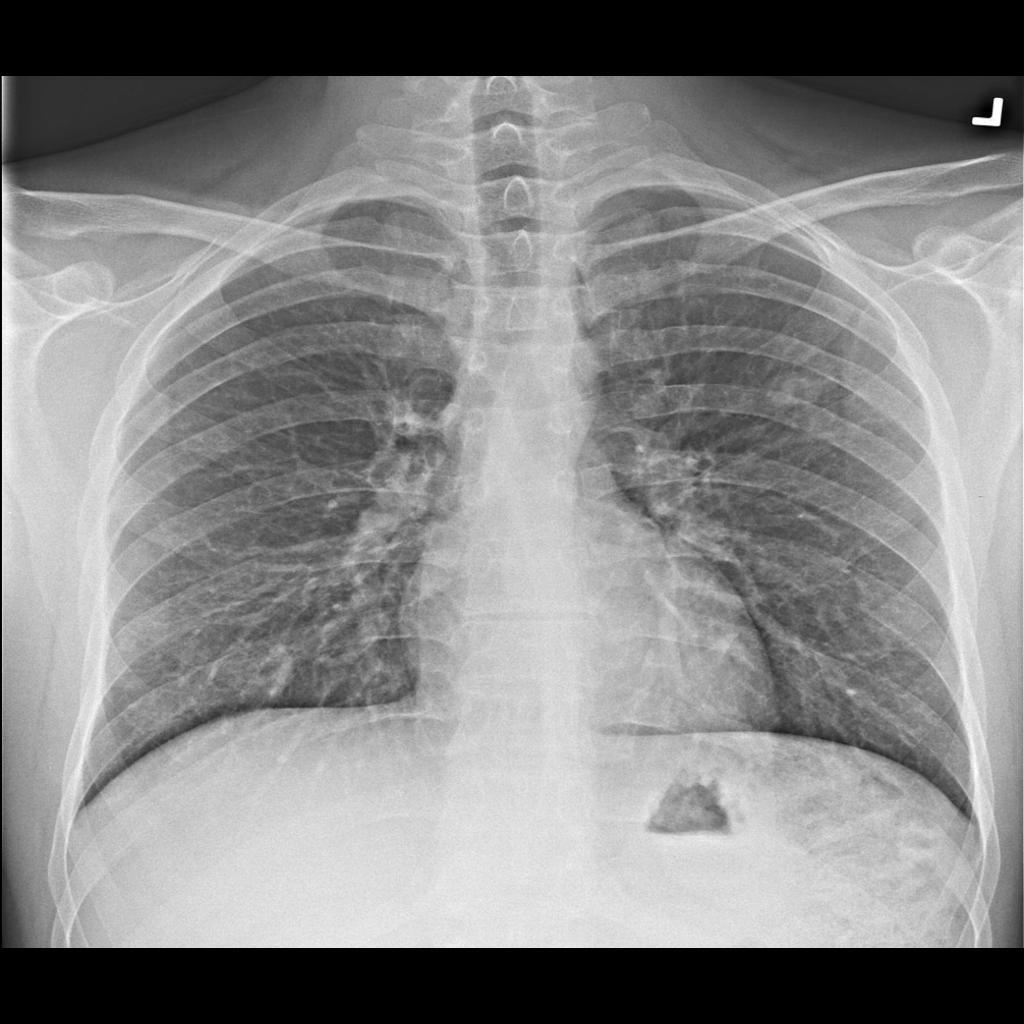Nodule: (761, 361, 824, 417)
